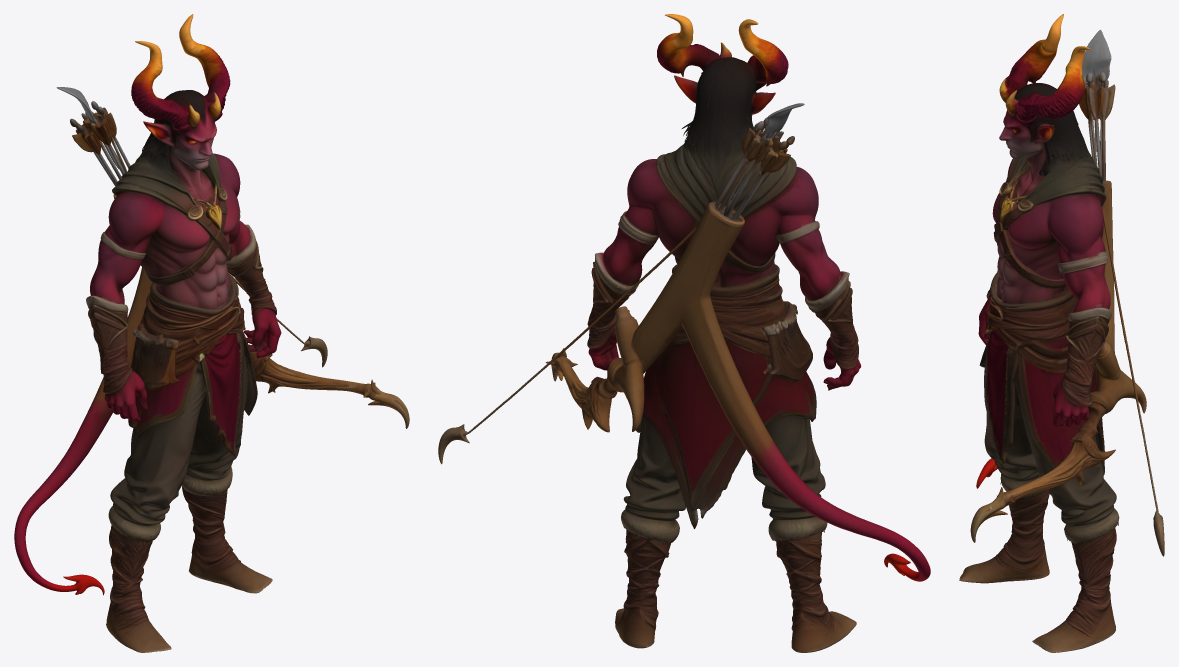
The model's file is tiefling_ranger_full_male_01.glb.
The picture shows the model from 3 angles, left to right: view 1: azimuth 30°, elevation 25°; view 2: azimuth 150°, elevation 25°; view 3: azimuth 270°, elevation 25°; orthographic projection. The views are drawn at different scales.
Parts seen in each view (by area): view 1: material; view 2: material; view 3: material.
Boxes of the visible parts, bbox=[...] form: material: bbox=[14, 14, 409, 652]; material: bbox=[438, 14, 930, 652]; material: bbox=[959, 14, 1164, 652].
Bounding box in the file's own units: 0.7603 × 1.1 × 0.3559.
Materials: 1 (1 with a texture image).
